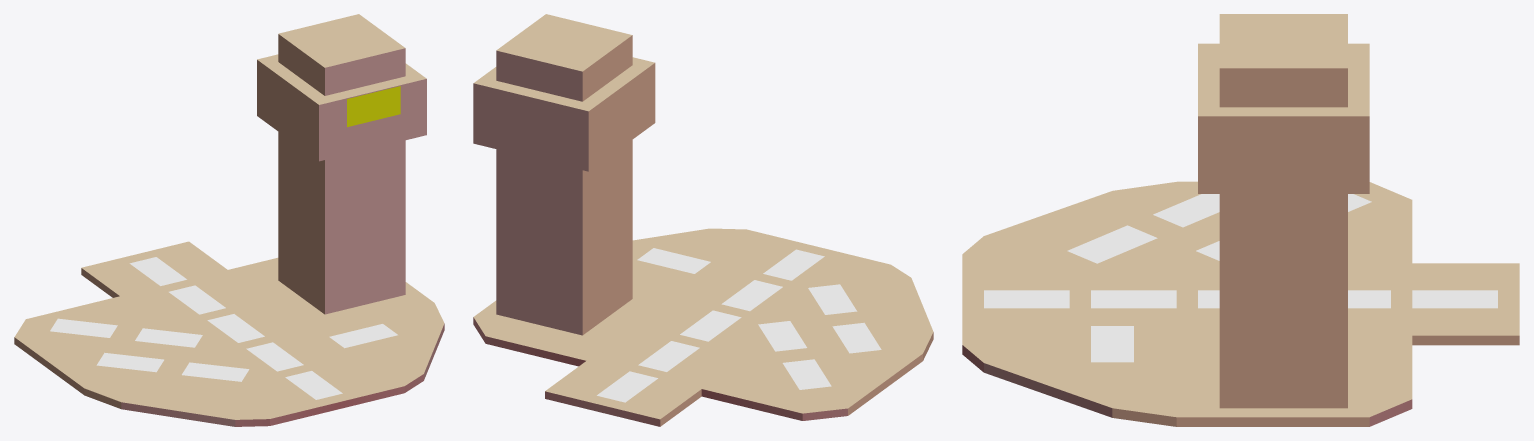
Rendered from Airport.WhiteNova.glb.
The picture shows the model from 3 angles, left to right: view 1: azimuth 30°, elevation 25°; view 2: azimuth 150°, elevation 25°; view 3: azimuth 270°, elevation 25°; orthographic projection. The views are drawn at different scales.
Parts seen in each view (by area): view 1: Airport.WhiteNova; view 2: Airport.WhiteNova; view 3: Airport.WhiteNova.
Part boxes in pixels (<box>): Airport.WhiteNova: <box>14,14,444,426</box>; Airport.WhiteNova: <box>473,14,933,426</box>; Airport.WhiteNova: <box>962,14,1519,426</box>.
Size of the model in its own units: 2.6 by 1.8 by 2.6.
2 materials, 1 textured.
